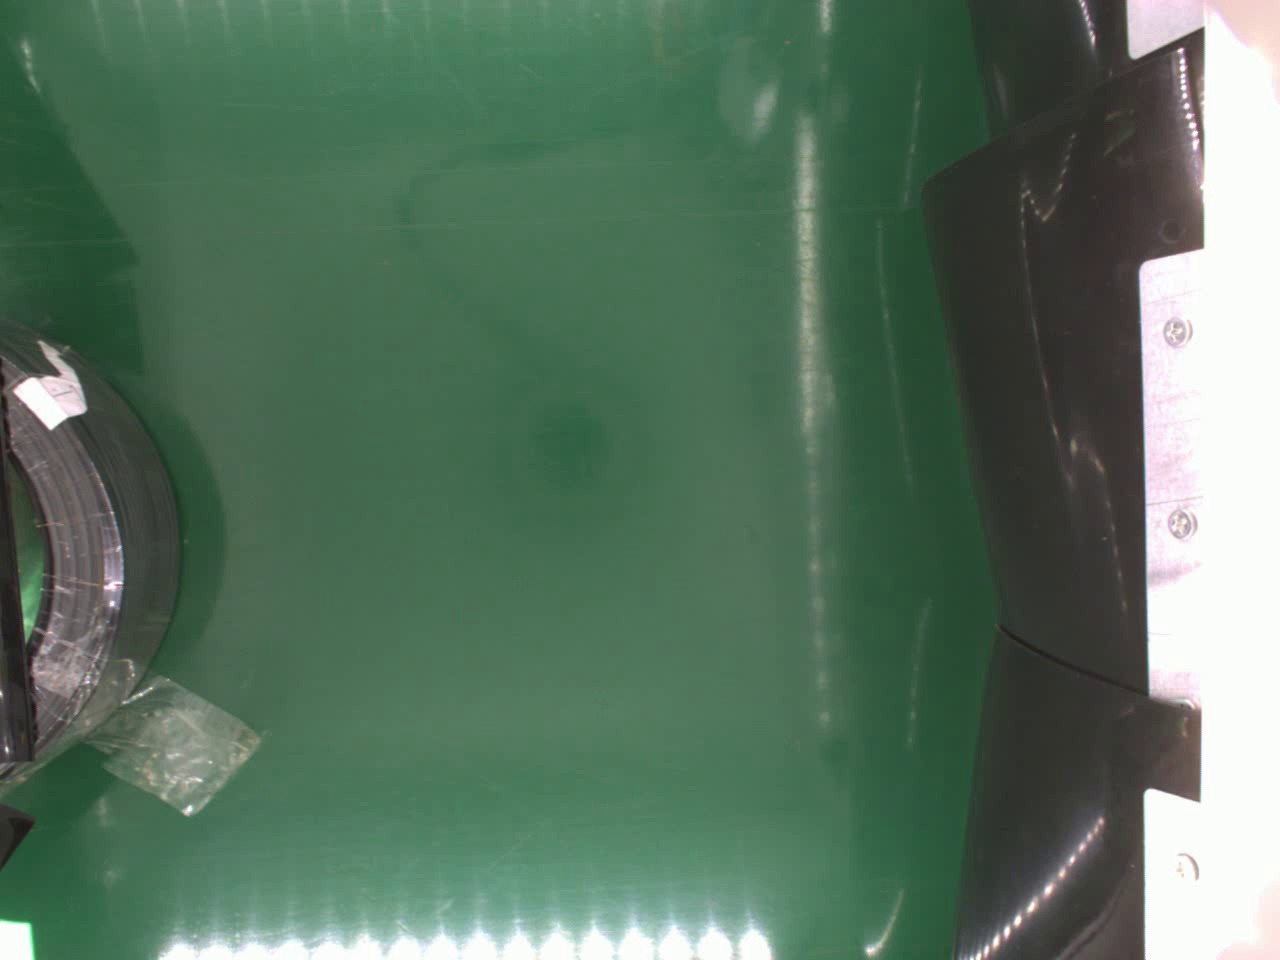black: (0, 307, 180, 784)
